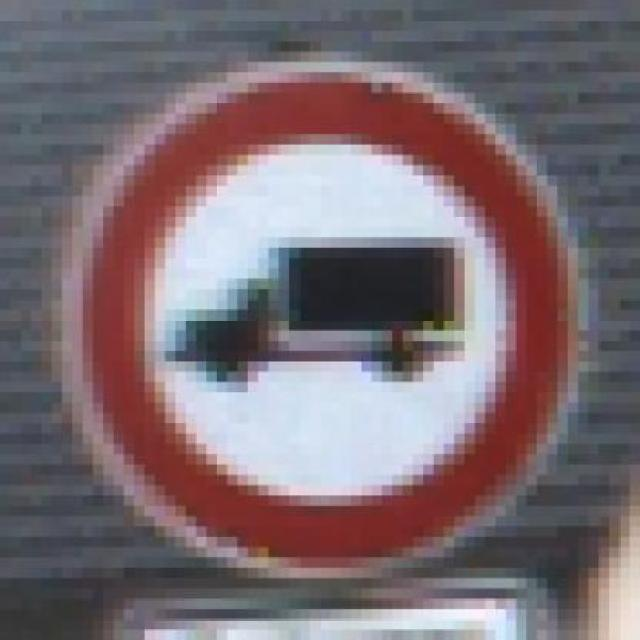Truck traffic is prohibited: (31, 51, 598, 588)
